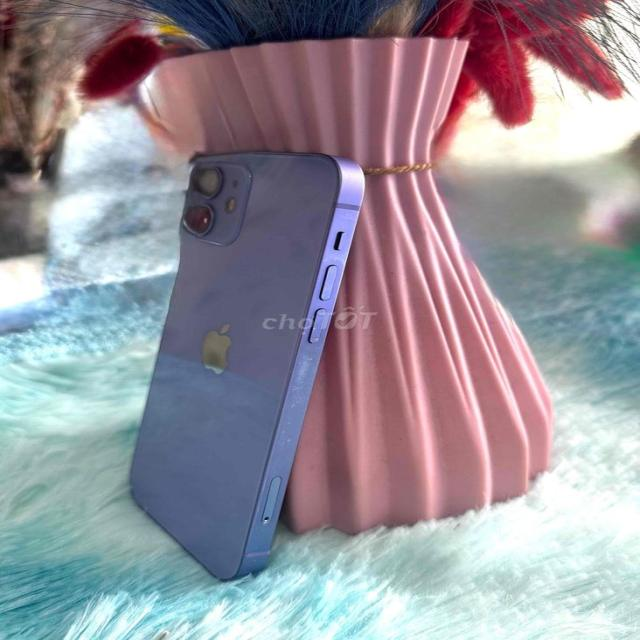gen_12_13: (121, 149, 370, 585)
